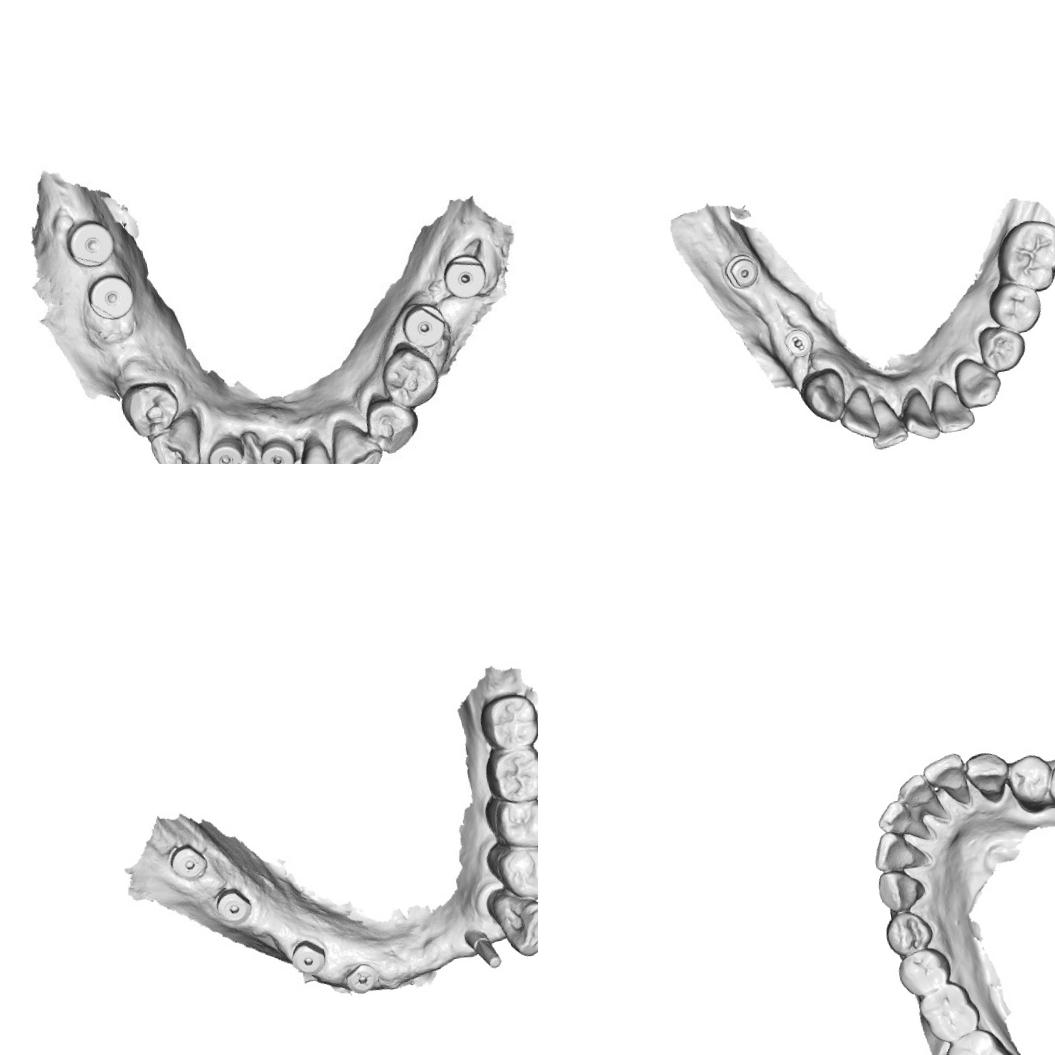abutment: (462, 922, 504, 976)
canine: (485, 882, 538, 962), (949, 350, 1006, 412), (796, 364, 850, 427), (143, 412, 206, 464), (960, 748, 1013, 808), (328, 415, 384, 464), (875, 866, 928, 916)
implant: (81, 268, 142, 327), (396, 296, 452, 353), (59, 216, 118, 270), (440, 252, 490, 297), (165, 838, 211, 886), (210, 882, 254, 931), (287, 935, 330, 978), (720, 250, 762, 292), (204, 428, 250, 464), (256, 429, 302, 464)
implant_minus: (781, 324, 816, 361)
implant_plus: (338, 958, 382, 996)
incisor: (925, 377, 977, 436), (868, 824, 928, 875), (834, 381, 882, 444), (864, 395, 910, 451), (896, 387, 942, 443), (287, 425, 346, 464), (919, 750, 968, 796), (874, 796, 914, 838), (892, 770, 934, 809)
molar: (989, 214, 1055, 298), (914, 975, 984, 1048), (473, 688, 538, 754), (480, 744, 538, 808), (938, 1021, 1017, 1055)
premolar: (482, 831, 538, 906), (378, 342, 441, 408), (480, 785, 538, 854), (362, 390, 420, 458), (984, 276, 1046, 339), (1003, 750, 1055, 817), (892, 944, 954, 1000), (119, 382, 179, 438), (974, 319, 1029, 375), (880, 906, 936, 958), (1044, 754, 1055, 813)
